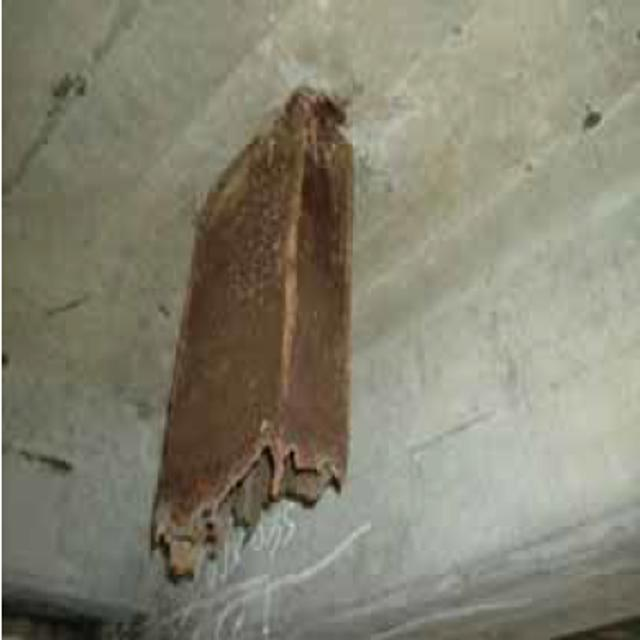corrosion: (139, 104, 367, 563)
